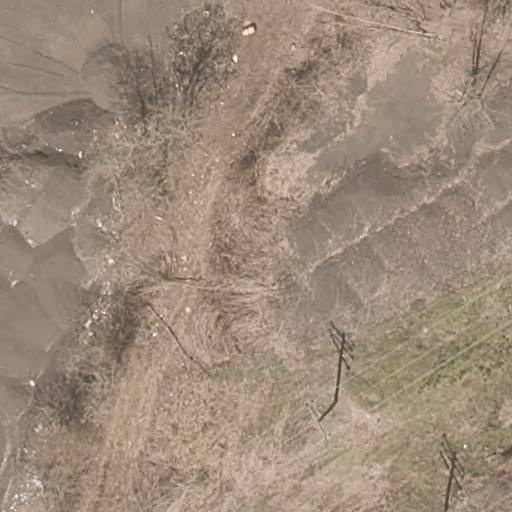DT: (302, 399, 330, 440)
